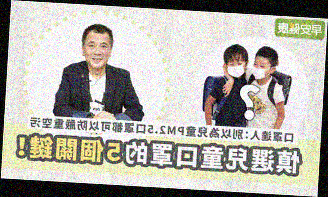with_mask: (226, 58, 246, 79), (251, 60, 270, 80)
without_mask: (83, 39, 111, 69)
